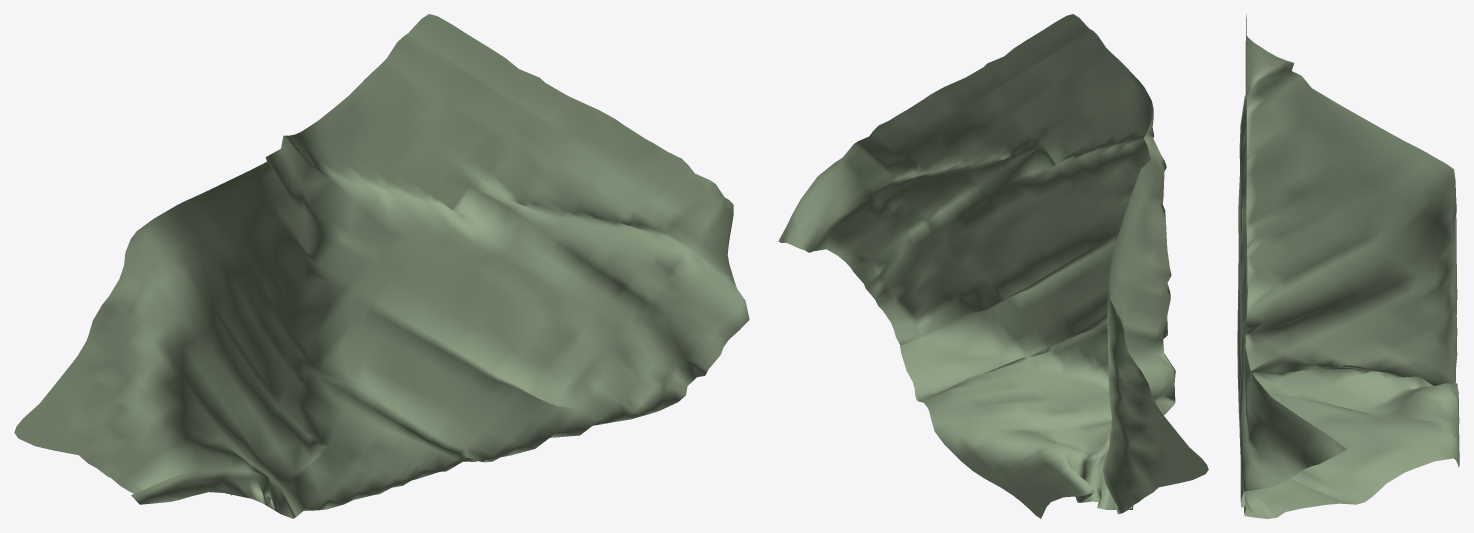
File: BedsheetUnmade_26_2BedsheetUnmade_5_2.obj
3 views of the same model, side by side, from view 1: azimuth 30°, elevation 25°; view 2: azimuth 150°, elevation 25°; view 3: azimuth 270°, elevation 25° (orthographic). The views are drawn at different scales.
Visible parts, largest first — view 1: BedsheetUnmade_5; view 2: BedsheetUnmade_5; view 3: BedsheetUnmade_5.
Boxes of the visible parts, <box> form: BedsheetUnmade_5: <box>14,14,749,518</box>; BedsheetUnmade_5: <box>778,14,1208,518</box>; BedsheetUnmade_5: <box>1237,14,1459,518</box>.
Bounding box in the file's own units: 1.69 × 1.42 × 0.5894.
